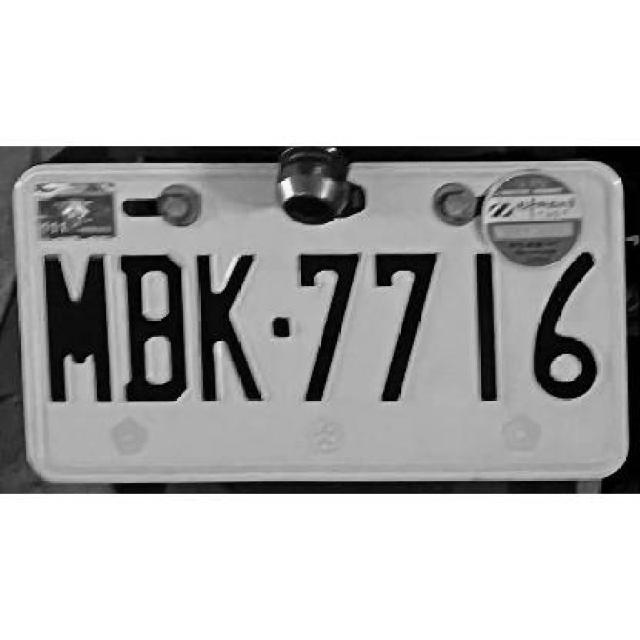-: (270, 315, 292, 340)
1: (471, 249, 498, 406)
6: (529, 246, 602, 409)
7: (371, 246, 442, 409), (295, 249, 363, 406)
B: (116, 252, 190, 400)
K: (192, 248, 266, 408)
M: (40, 250, 115, 404)
